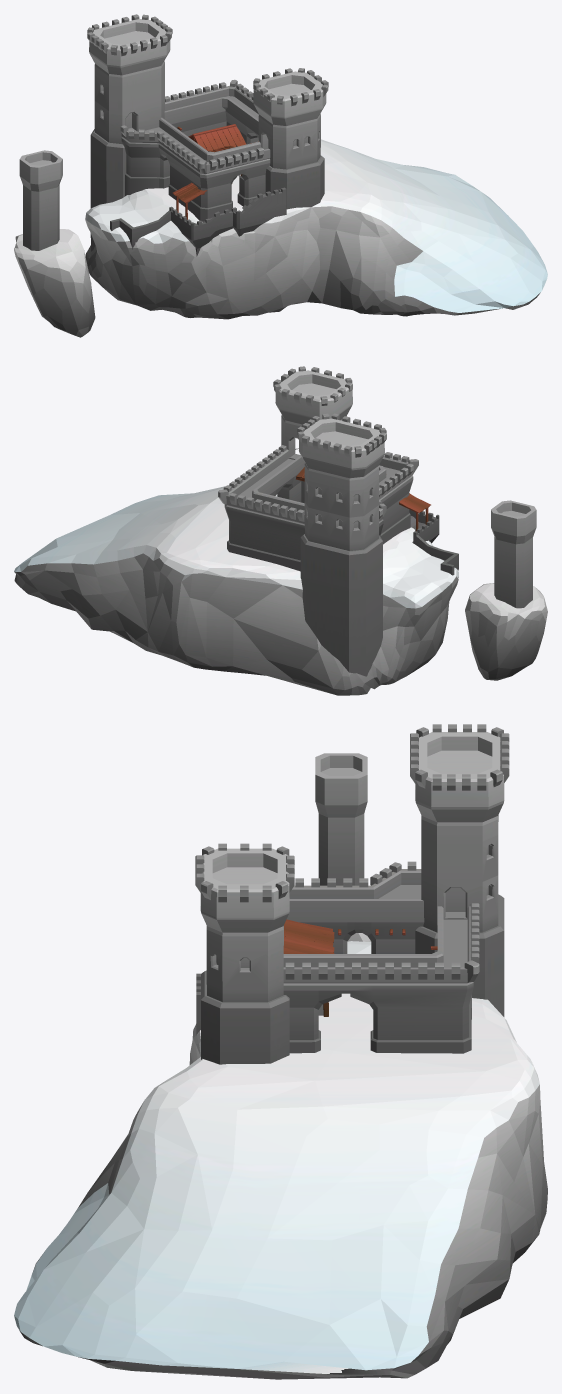
3 renders of one model, top to bottom at view 1: azimuth 30°, elevation 25°; view 2: azimuth 150°, elevation 25°; view 3: azimuth 270°, elevation 25°, orthographic. The views are drawn at different scales.
Parts seen in each view (by area): view 1: CastleCliff; view 2: CastleCliff; view 3: CastleCliff.
Boxes of the visible parts, x1,y1,x2,y2 form: CastleCliff: [14, 14, 547, 337]; CastleCliff: [14, 366, 547, 695]; CastleCliff: [14, 724, 547, 1379].
Bounding box in the file's own units: 1500 × 712 × 901.
1 material, 1 textured.
